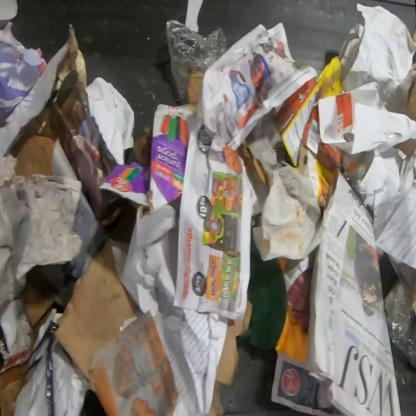cardboard: (54, 201, 143, 383), (271, 55, 359, 209), (99, 104, 196, 211), (0, 277, 57, 415), (207, 299, 253, 416), (15, 102, 62, 179), (186, 65, 204, 113)
rigid_plastic: (23, 320, 65, 415), (383, 279, 415, 372)
soft_plastic: (165, 19, 229, 107)
